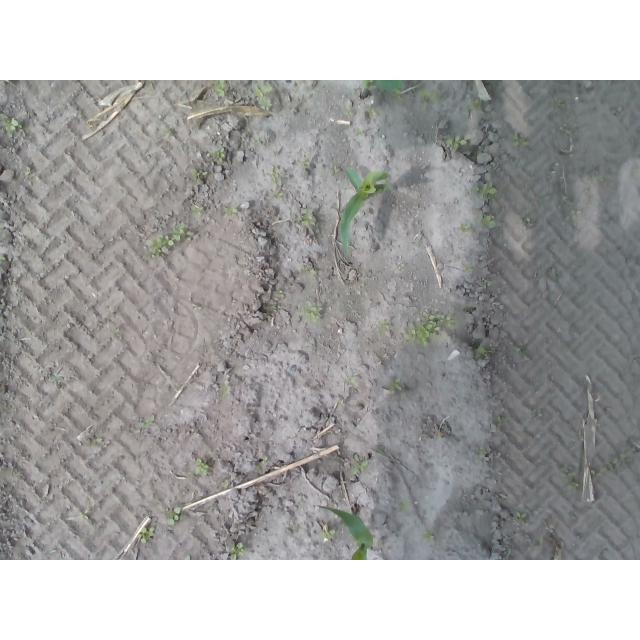Maize: (337, 160, 394, 261), (317, 500, 376, 561), (357, 80, 408, 104)
Weeds: (405, 309, 456, 348), (147, 222, 194, 258), (557, 193, 579, 223), (1, 113, 24, 138), (254, 84, 274, 110), (474, 180, 498, 201), (419, 87, 441, 107), (446, 133, 468, 153), (350, 453, 369, 476), (227, 541, 246, 560), (138, 525, 154, 544), (193, 456, 208, 476), (167, 507, 182, 526), (305, 305, 322, 321), (482, 215, 499, 230), (512, 131, 530, 145), (255, 455, 269, 471), (144, 414, 157, 431), (303, 207, 314, 226), (320, 529, 339, 540), (390, 376, 403, 392), (212, 80, 225, 96), (513, 511, 527, 525), (379, 318, 390, 335), (190, 167, 208, 177), (493, 416, 511, 425), (422, 530, 435, 542), (459, 223, 472, 235), (471, 98, 482, 112), (344, 376, 360, 385), (214, 146, 226, 158), (511, 344, 525, 354), (272, 191, 284, 202), (223, 206, 239, 214), (477, 345, 488, 356), (191, 206, 204, 215), (271, 169, 279, 183), (367, 107, 377, 117), (275, 290, 285, 299), (80, 512, 89, 521), (299, 159, 309, 166), (343, 111, 353, 117), (1, 255, 7, 261)
